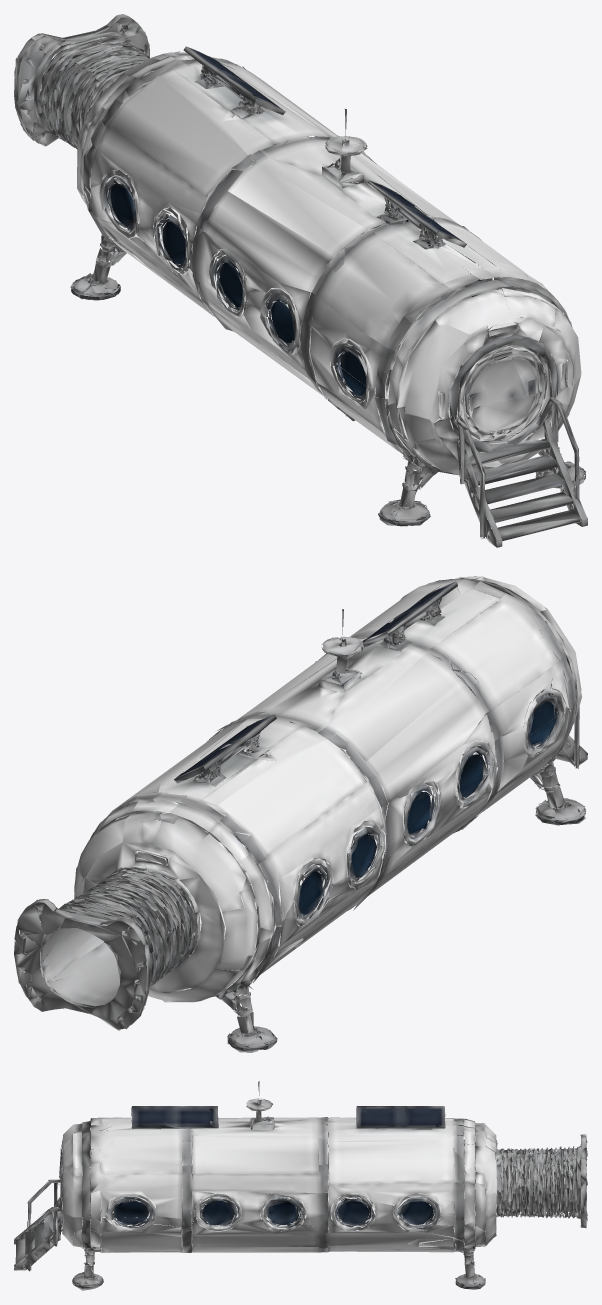
The model's file is habitat.glb.
3 views of the same model, one above another, from view 1: azimuth 30°, elevation 25°; view 2: azimuth 150°, elevation 25°; view 3: azimuth 270°, elevation 25° (orthographic). The views are drawn at different scales.
Parts seen in each view (by area): view 1: LO.001; view 2: LO.001; view 3: LO.001.
Boxes of the visible parts, left/top/right/bottom form: LO.001: left=14, top=14, right=587, bottom=547; LO.001: left=14, top=576, right=587, bottom=1052; LO.001: left=14, top=1081, right=587, bottom=1290.
Size of the model in its own units: 3.36 by 4.63 by 13.43.
1 material, 1 textured.
